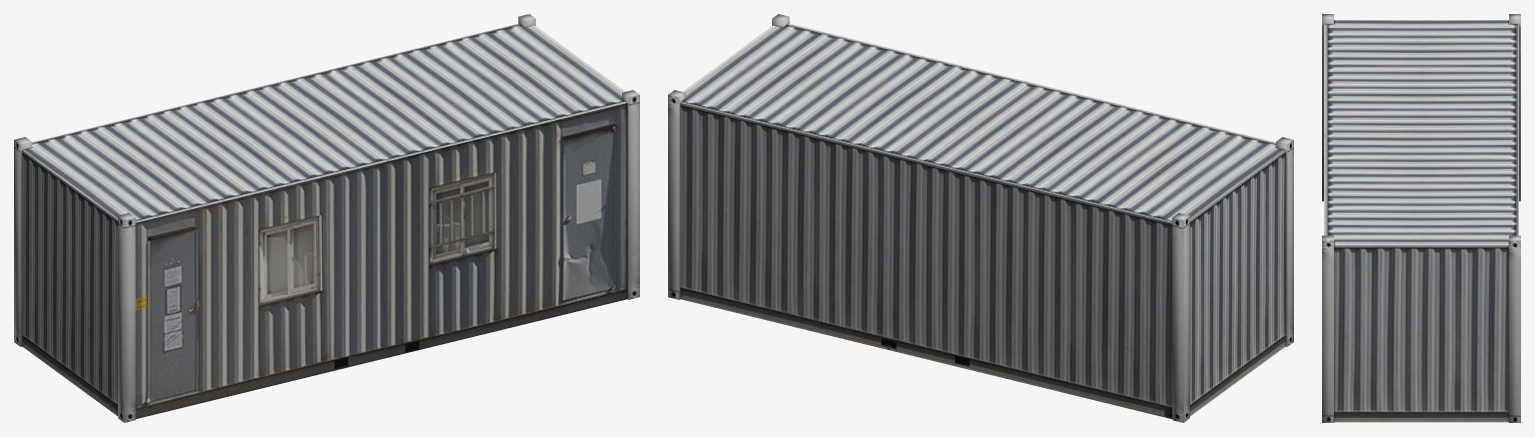
The model's file is container_1x3.gltf.
3 views of the same model, side by side, from view 1: azimuth 30°, elevation 25°; view 2: azimuth 150°, elevation 25°; view 3: azimuth 270°, elevation 25° (orthographic). The views are drawn at different scales.
Visible parts, largest first — view 1: container_1x3; view 2: container_1x3; view 3: container_1x3.
Boxes of the visible parts, x1=… form: container_1x3: x1=14, y1=14, x2=639, y2=422; container_1x3: x1=668, y1=14, x2=1293, y2=422; container_1x3: x1=1322, y1=14, x2=1520, y2=422.
Size of the model in its own units: 67.95 by 25.5 by 25.2.
1 material, 1 textured.
